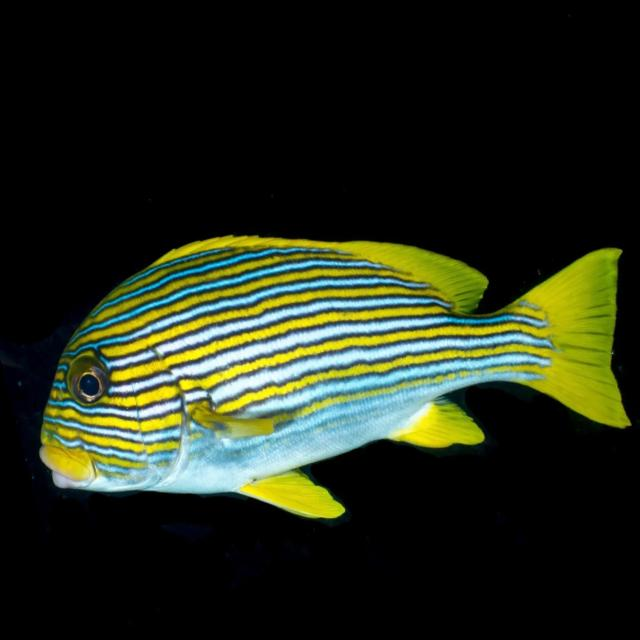RibbonedSweetlips: (0, 138, 640, 585)
